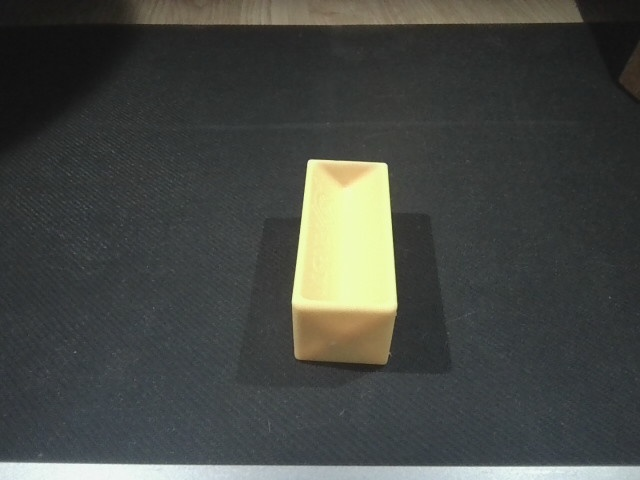YellowSample: (282, 151, 404, 370)
